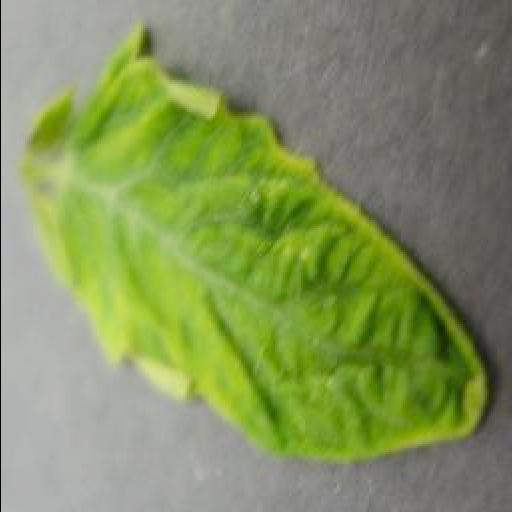disease_tomato: (23, 30, 485, 460)
